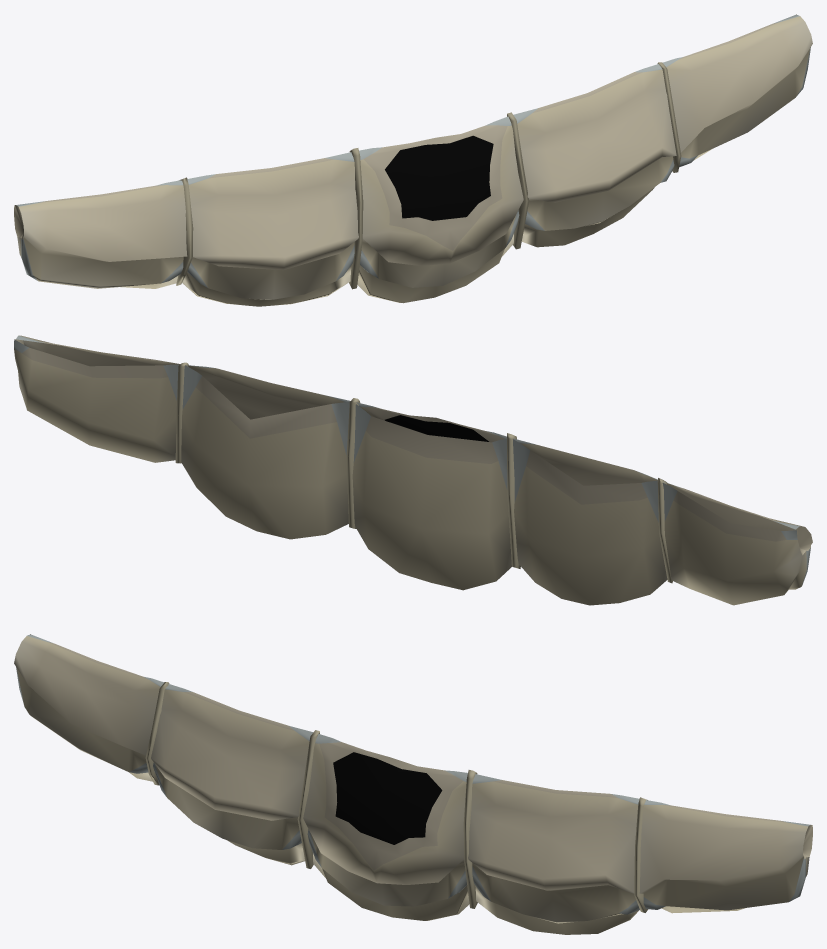
3 views of the same model, one above another, from view 1: azimuth 30°, elevation 25°; view 2: azimuth 150°, elevation 25°; view 3: azimuth 330°, elevation 25° (orthographic).
Visible parts, largest first — view 1: G:\FFXIV-MapTools\exports\s1f3\bgcommon\world\sip\002\bgpart (×2); view 2: G:\FFXIV-MapTools\exports\s1f3\bgcommon\world\sip\002\bgpart (×2); view 3: G:\FFXIV-MapTools\exports\s1f3\bgcommon\world\sip\002\bgpart (×2).
Boxes of the visible parts, bbox=[...] form: G:\FFXIV-MapTools\exports\s1f3\bgcommon\world\sip\002\bgpart (×2): bbox=[14, 14, 812, 306]; G:\FFXIV-MapTools\exports\s1f3\bgcommon\world\sip\002\bgpart (×2): bbox=[14, 335, 812, 605]; G:\FFXIV-MapTools\exports\s1f3\bgcommon\world\sip\002\bgpart (×2): bbox=[14, 634, 812, 934].
Size of the model in its own units: 23.62 by 4.84 by 2.71.
